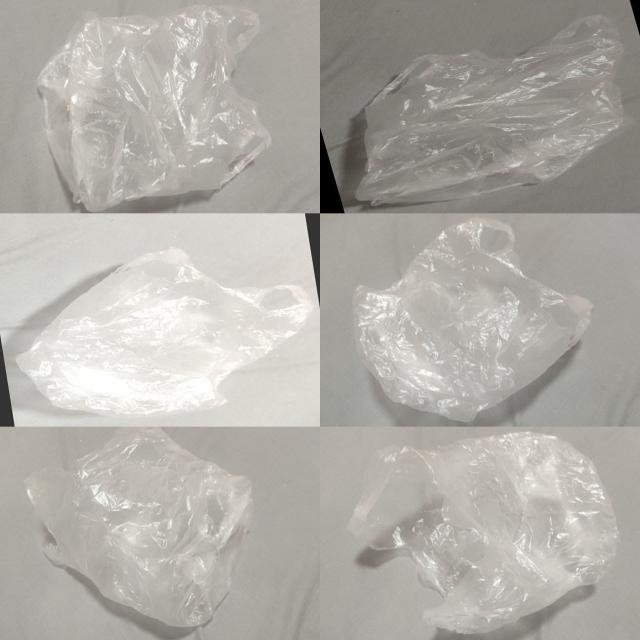Single-layer Plastic: (348, 432, 618, 633), (357, 15, 629, 205), (16, 248, 314, 416), (354, 218, 593, 421), (38, 5, 270, 211), (25, 428, 253, 627)
